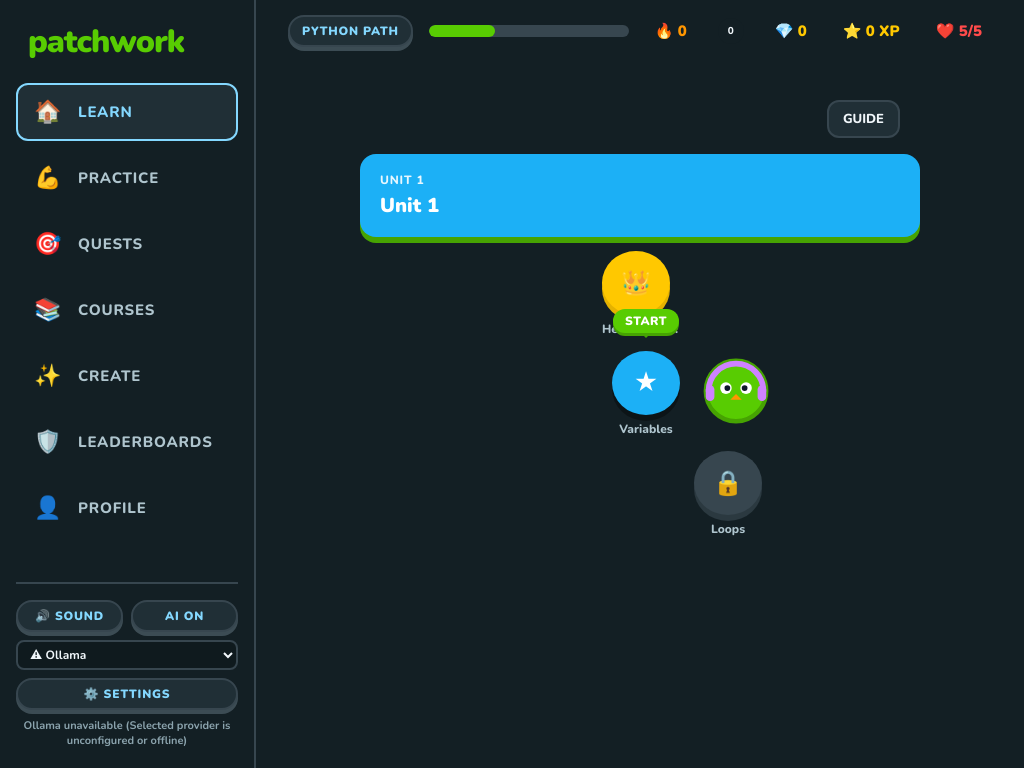
Test: Lesson player › opens a lesson without a code editor on the first screen
Click the button with aria-label "Variables — Current lesson": point(646, 383) x1=612 y1=351 x2=680 y2=415
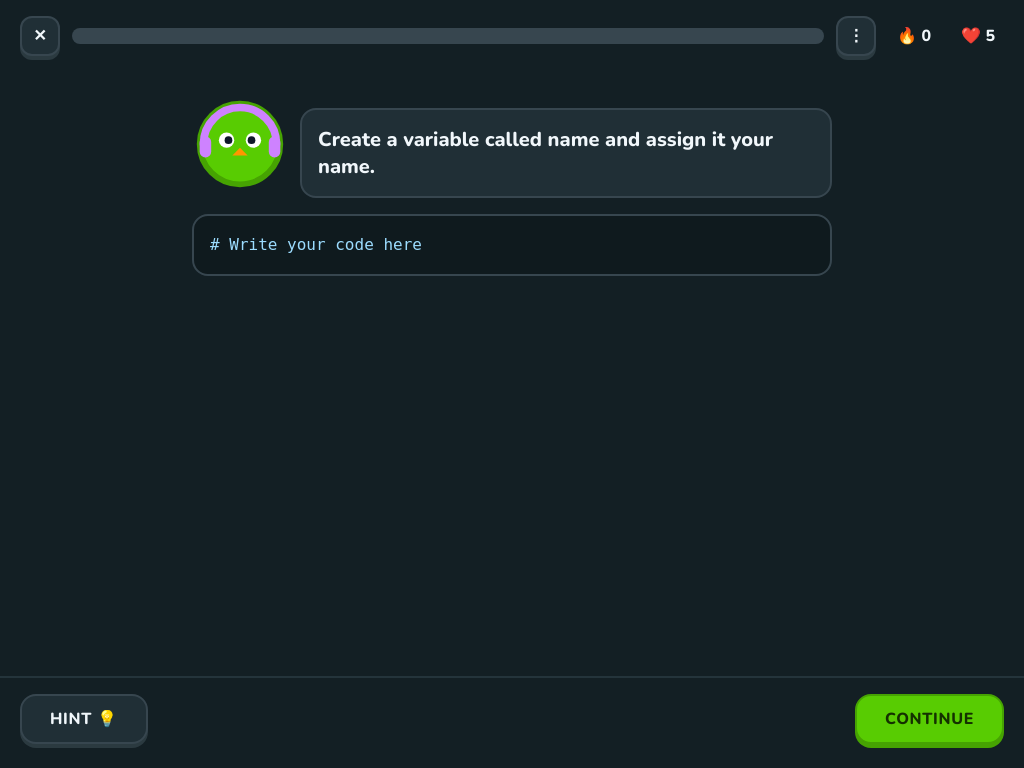
Now the button named "Quit lesson" is shown, box x1=20 y1=16 x2=60 y2=56
Now the button "Continue" is enabled, box x1=855 y1=694 x2=1004 y2=744
